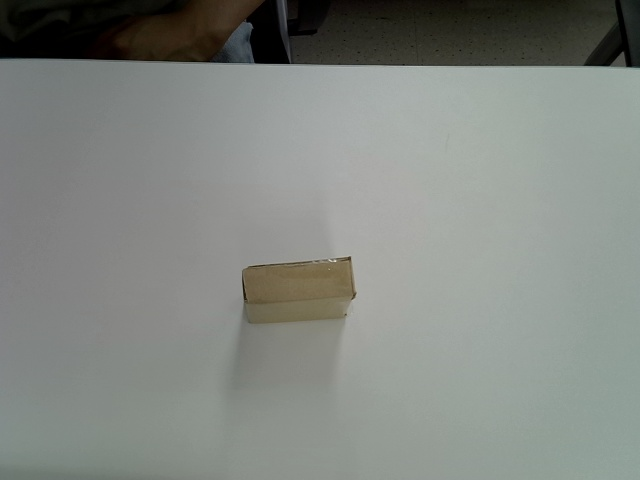normal: (242, 255, 356, 325)
